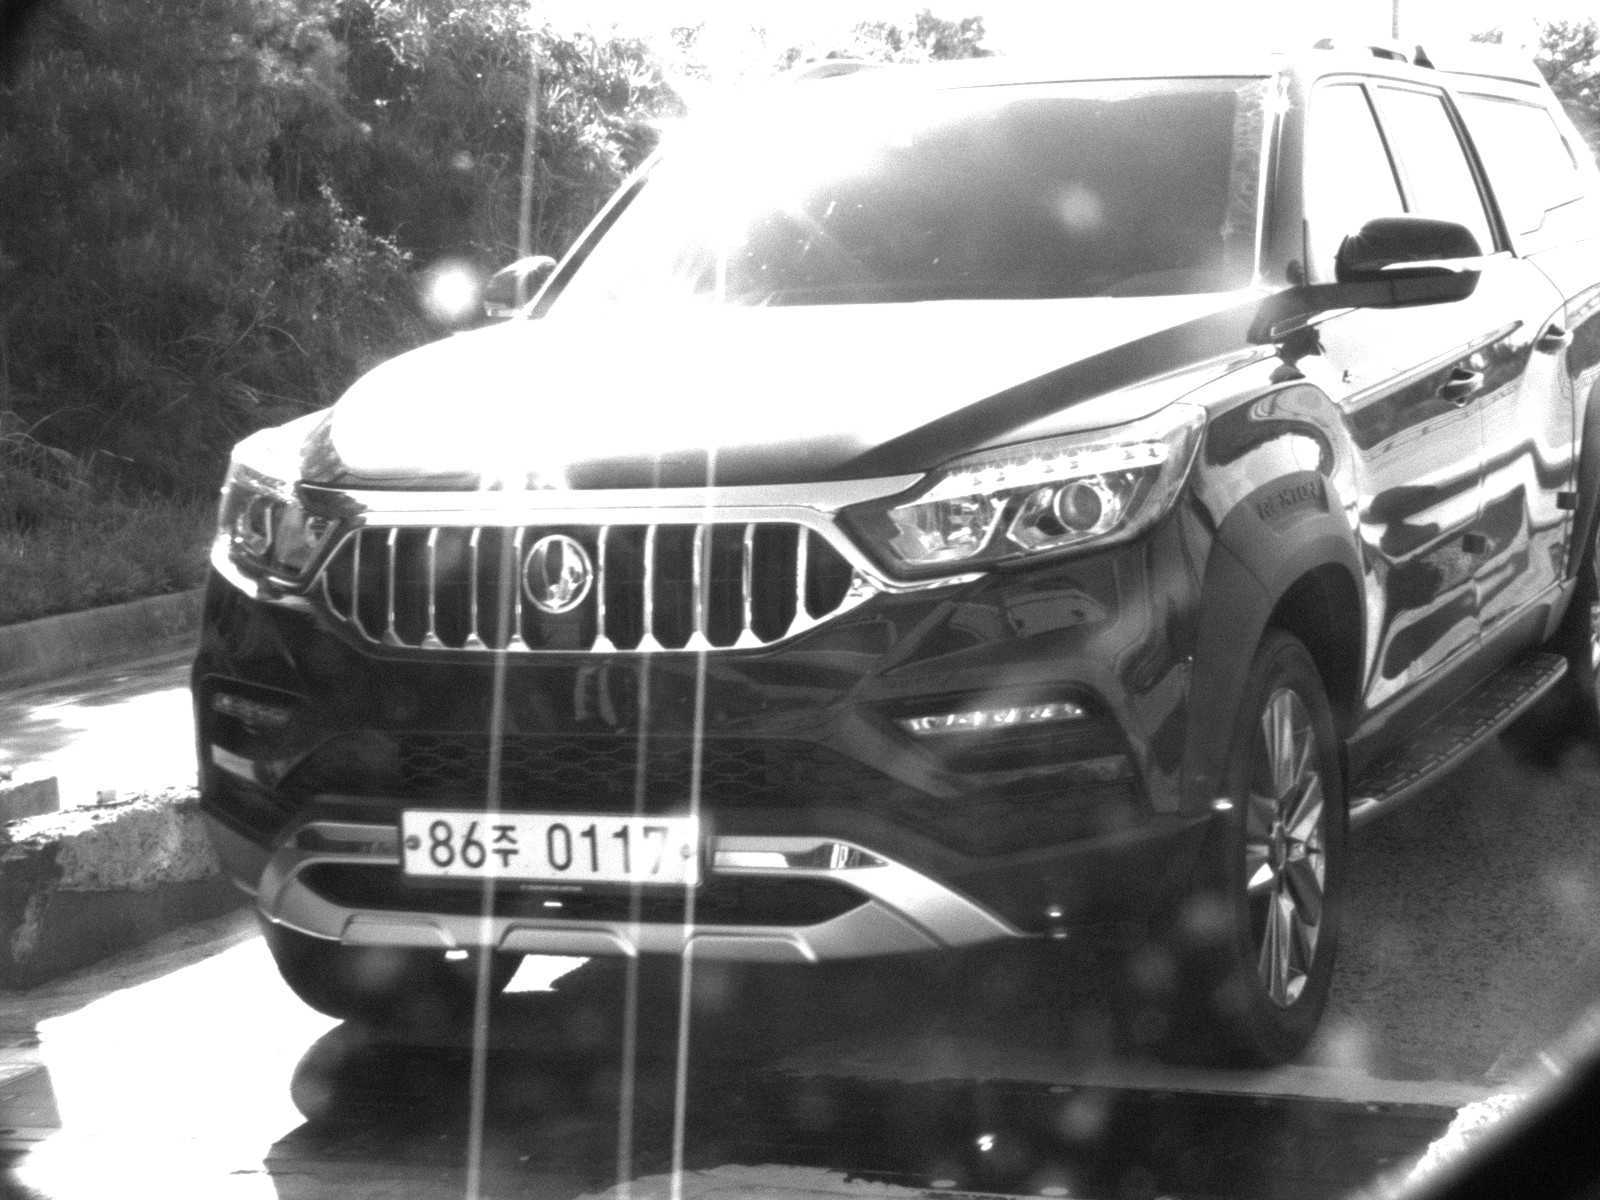car: (189, 2, 1600, 1068)
plate: (397, 805, 705, 893)
